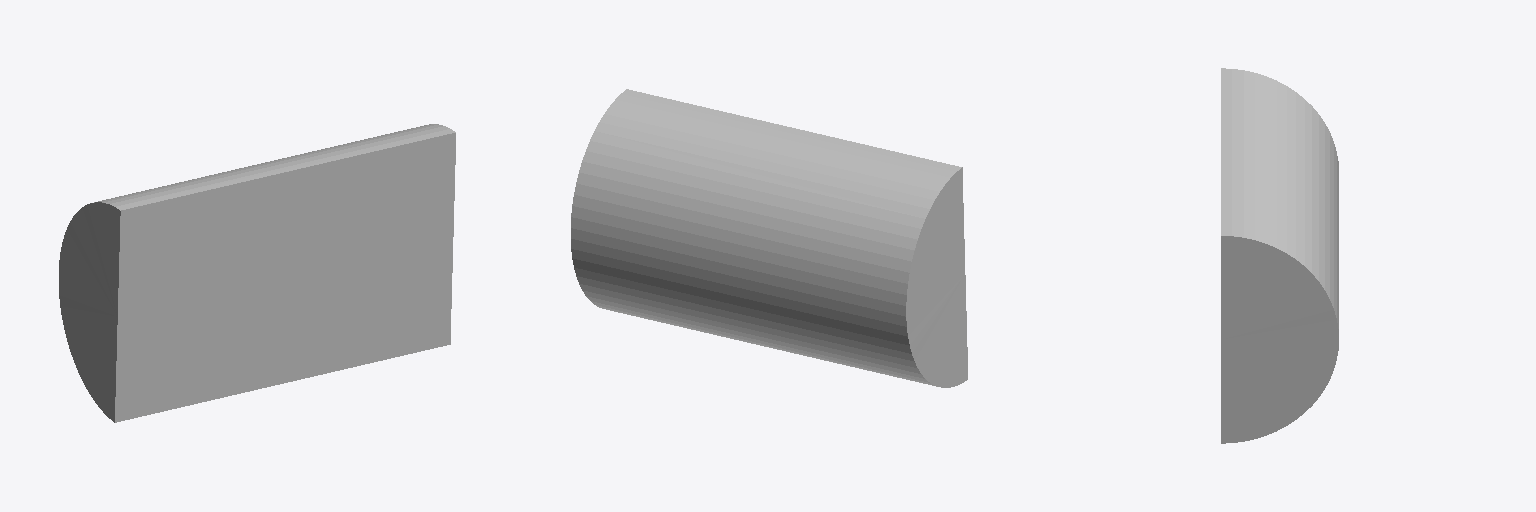
Rendered from bat_hole1.obj.
3 views of the same model, side by side, from view 1: azimuth 30°, elevation 25°; view 2: azimuth 150°, elevation 25°; view 3: azimuth 270°, elevation 25° (orthographic).
Parts seen in each view (by area): view 1: Incredible_Jofo(3); view 2: Incredible_Jofo(3); view 3: Incredible_Jofo(3).
Boxes of the visible parts, box(x1,y1,x2,y2) form: Incredible_Jofo(3): box(59, 124, 455, 422); Incredible_Jofo(3): box(571, 89, 967, 387); Incredible_Jofo(3): box(1221, 68, 1338, 443).
Size of the model in its own units: 0.05 by 0.03 by 0.015.